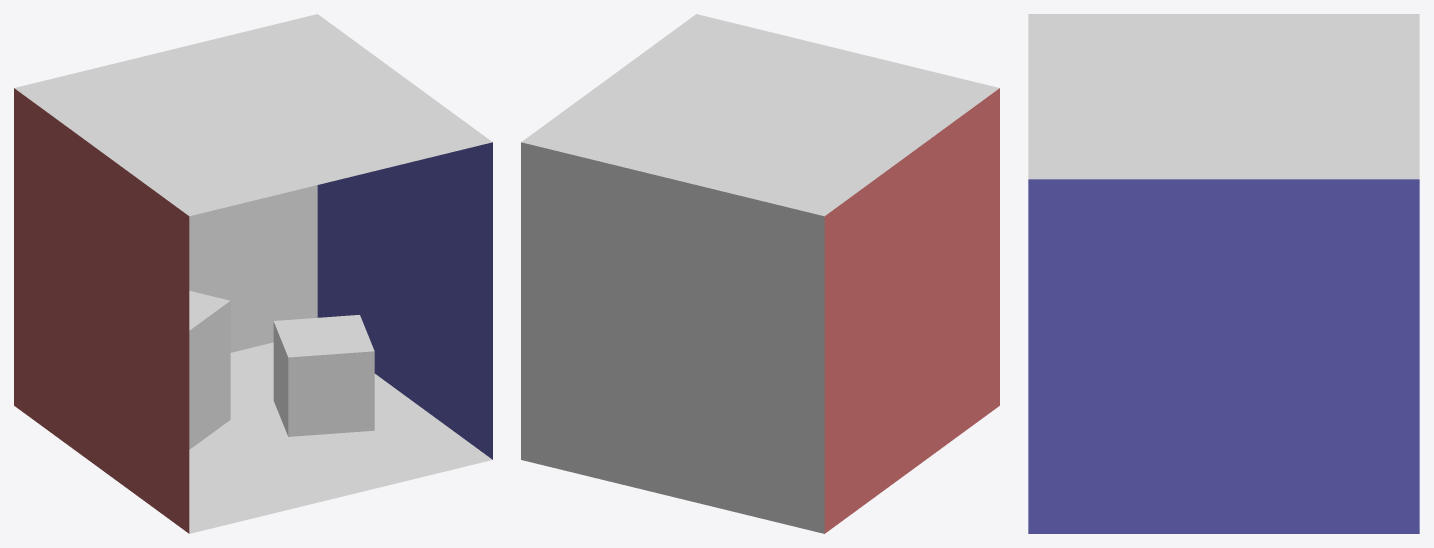
File: practice7_1.gltf
3 views of the same model, side by side, from view 1: azimuth 30°, elevation 25°; view 2: azimuth 150°, elevation 25°; view 3: azimuth 270°, elevation 25° (orthographic). The views are drawn at different scales.
Parts seen in each view (by area): view 1: Plane.004, Plane.001, Plane.003, Plane, Plane.002, Cube.001, Cube; view 2: Plane.002, Plane.004, Plane.001; view 3: Plane.003, Plane.001.
Part boxes in pixels (bbox=[...]): Plane.004: bbox=[14, 88, 189, 533]; Plane.001: bbox=[14, 14, 492, 216]; Plane.003: bbox=[317, 142, 492, 459]; Plane: bbox=[189, 342, 492, 533]; Plane.002: bbox=[189, 185, 317, 352]; Cube.001: bbox=[273, 315, 374, 436]; Cube: bbox=[189, 290, 230, 449]; Plane.002: bbox=[521, 142, 824, 533]; Plane.004: bbox=[824, 88, 999, 533]; Plane.001: bbox=[521, 14, 999, 216]; Plane.003: bbox=[1028, 179, 1419, 533]; Plane.001: bbox=[1028, 14, 1419, 179].
Size of the model in its own units: 4 by 4 by 4.
